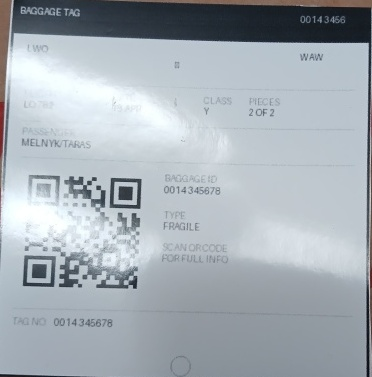LPN_bottom: (49, 314, 114, 331)
LPN_right: (161, 184, 225, 198)
